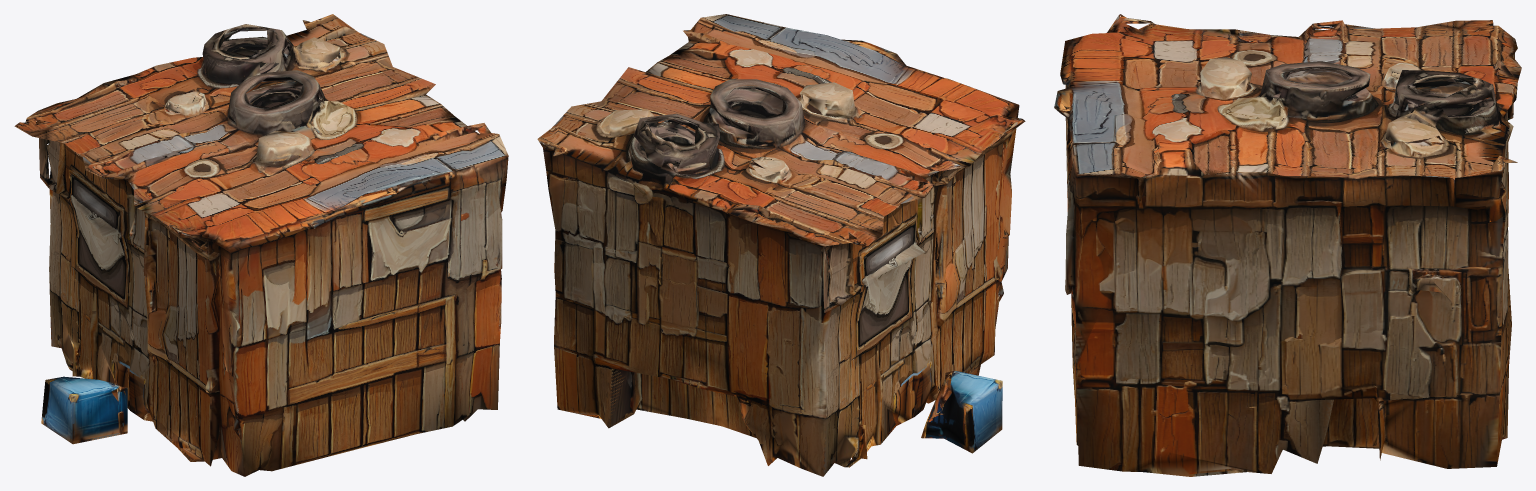
File: Settle_Shanty_Small.fbx
3 views of the same model, side by side, from view 1: azimuth 30°, elevation 25°; view 2: azimuth 150°, elevation 25°; view 3: azimuth 270°, elevation 25° (orthographic). The views are drawn at different scales.
Visible parts, largest first — view 1: texture_mapping; view 2: texture_mapping; view 3: texture_mapping.
Part boxes in pixels (x1=…): texture_mapping: x1=14, y1=14, x2=508, y2=476; texture_mapping: x1=537, y1=14, x2=1025, y2=476; texture_mapping: x1=1054, y1=14, x2=1521, y2=476.
Bounding box in the file's own units: 0.9693 × 0.9075 × 0.7399.
Materials: 1 (1 with a texture image).
